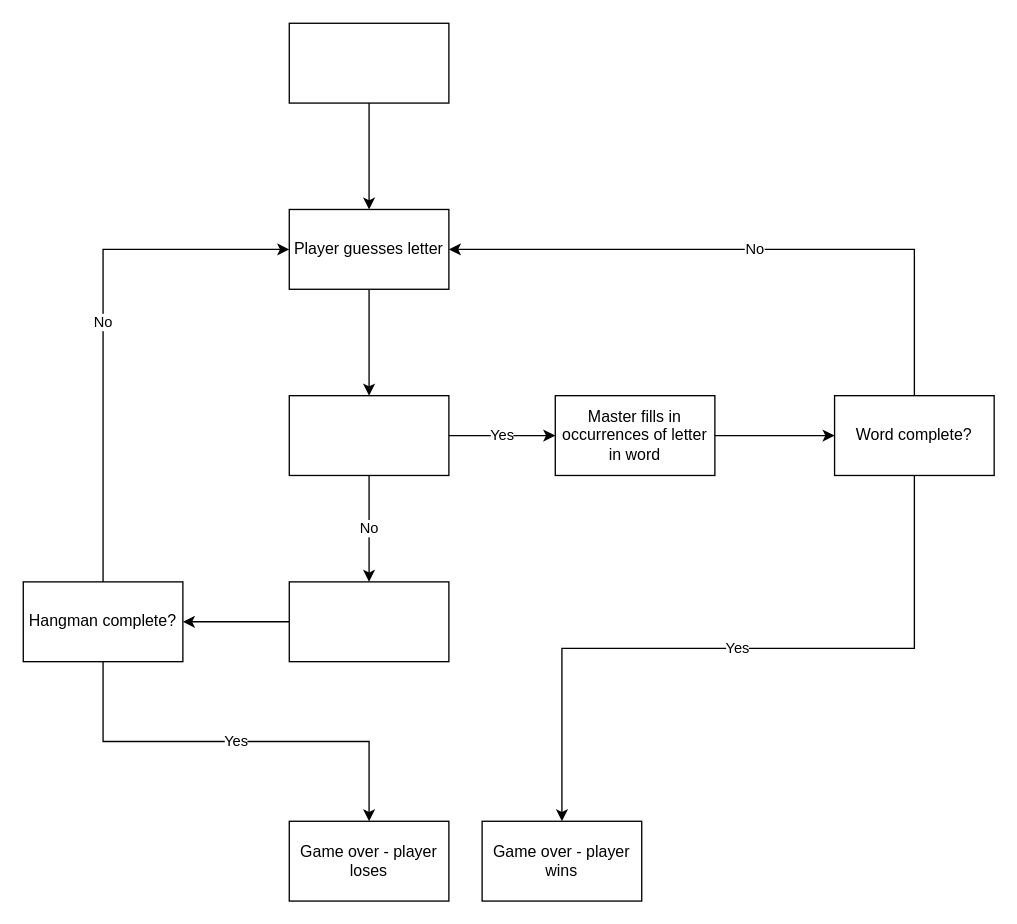
Some shapes in this 1017 by 924 pixel diagram are drawn without their labels. The shapes that lost their labels are listed below. From the top down, each one's centre as x and y in pixels, then its label:
At (x=368, y=62): "Master chooses word".
At (x=368, y=434): "Letter in word?".
At (x=368, y=621): "Master adds stage to hangman".
